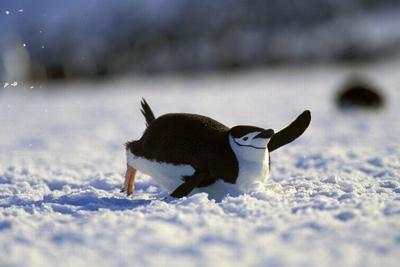chinstrap: (101, 71, 298, 206)
